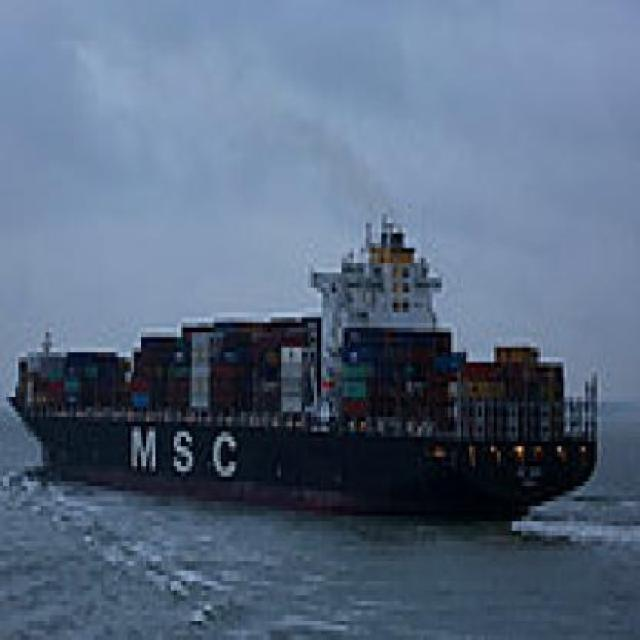container: (10, 190, 610, 547)
